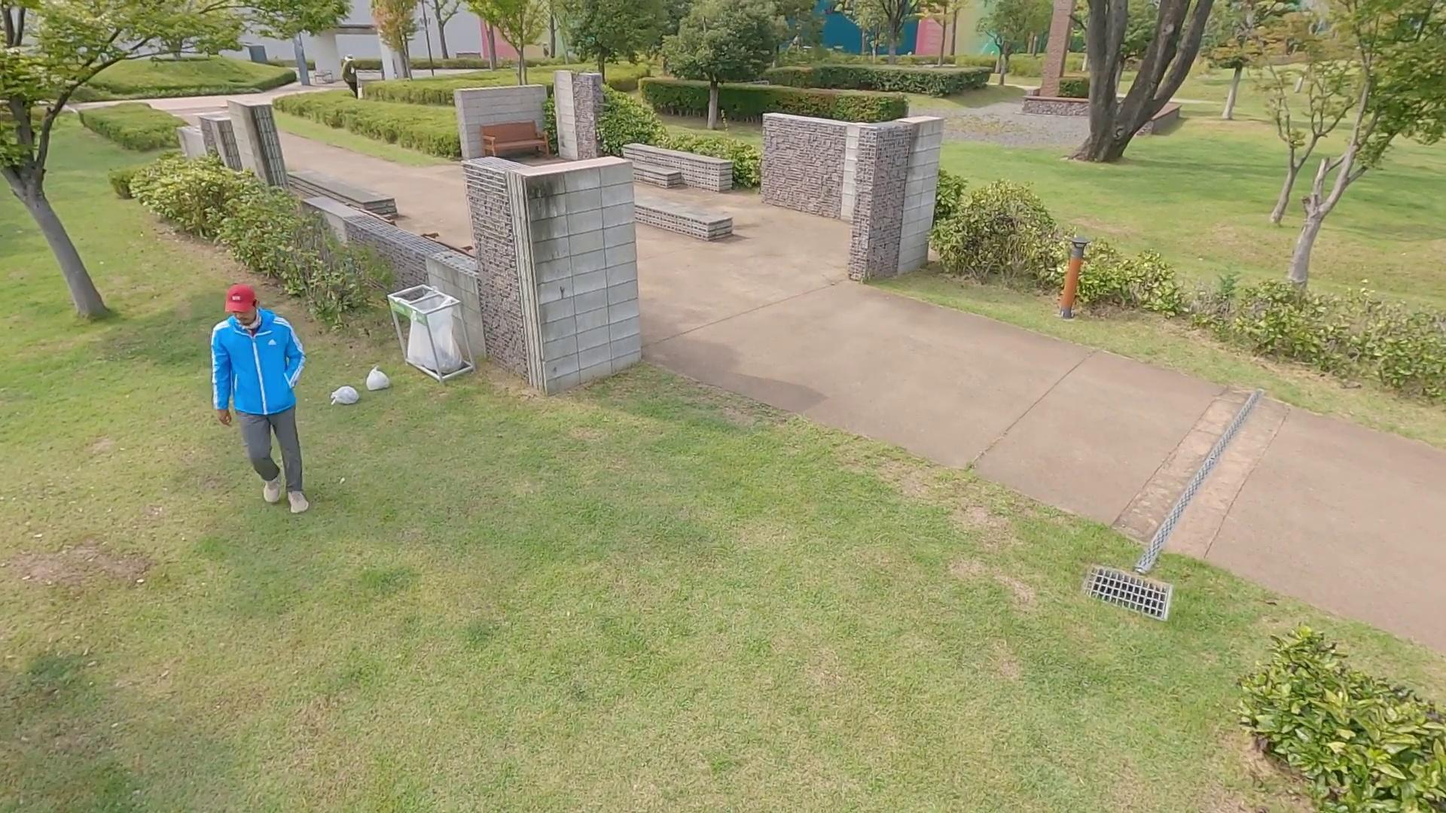person: (197, 273, 331, 521)
trash: (320, 373, 359, 411), (356, 358, 393, 396)
